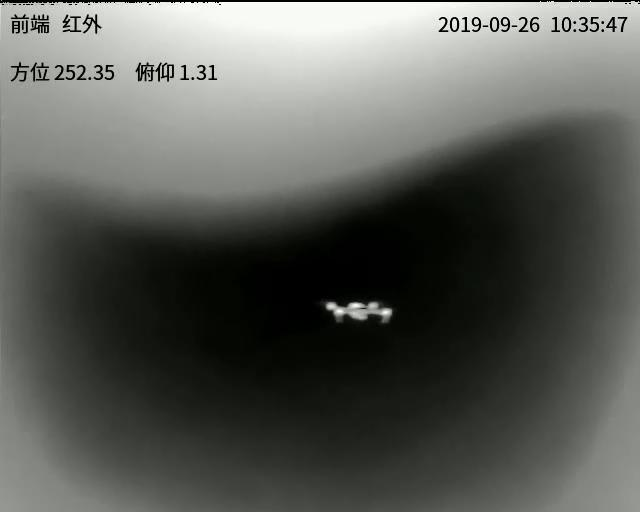uav: (318, 295, 393, 324)
